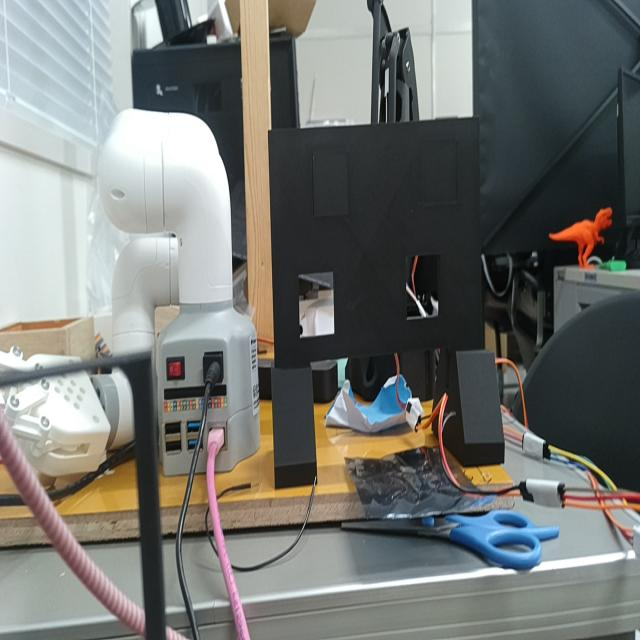Obstacle: (299, 274, 335, 337), (407, 256, 439, 319)
Wall: (268, 117, 484, 366)
